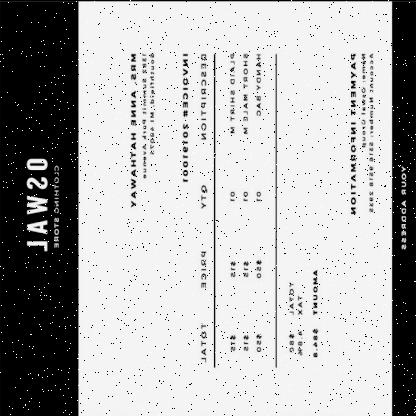Paragraph: (350, 51, 376, 215), (130, 51, 156, 209), (288, 267, 320, 358), (182, 52, 190, 184), (54, 164, 62, 258), (401, 164, 407, 249)
Table: (198, 51, 276, 366)
